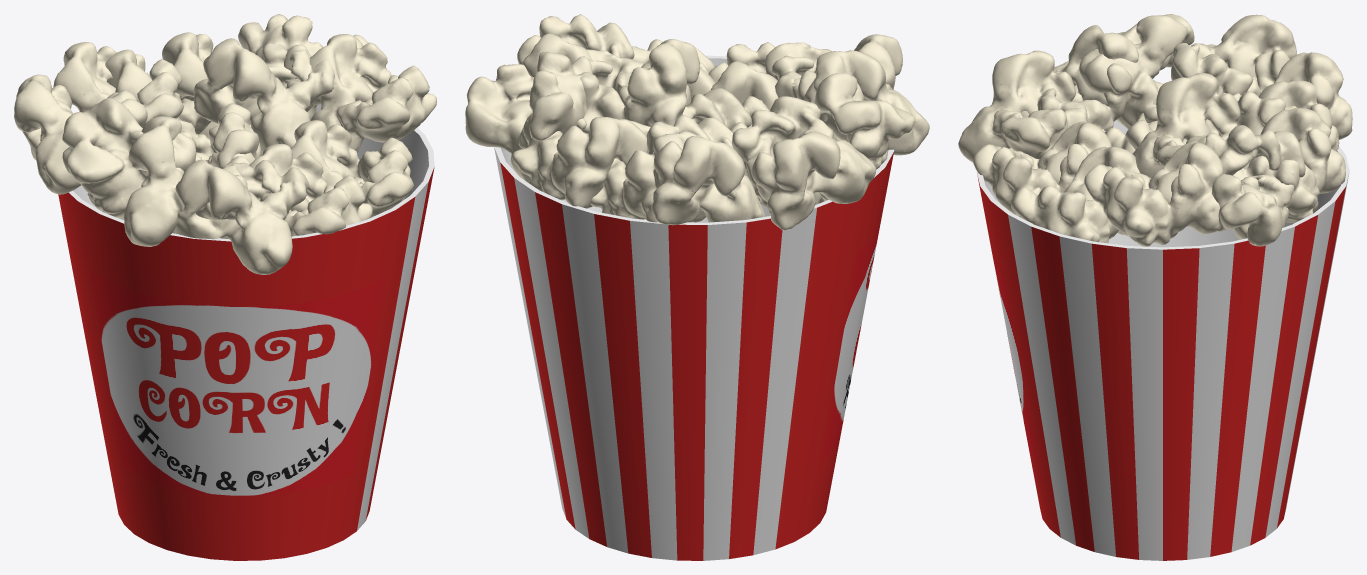
File: popcorn.fbx
The picture shows the model from 3 angles, left to right: view 1: azimuth 30°, elevation 25°; view 2: azimuth 150°, elevation 25°; view 3: azimuth 270°, elevation 25°; orthographic projection. The views are drawn at different scales.
Parts seen in each view (by area): view 1: Cylinder, poped_import.011; view 2: Cylinder, poped_import.011; view 3: Cylinder, poped_import.011.
Boxes of the visible parts, x1,y1,x2,y2 form: Cylinder: [58, 104, 434, 560]; poped_import.011: [14, 14, 436, 274]; Cylinder: [494, 55, 894, 560]; poped_import.011: [465, 14, 929, 230]; Cylinder: [976, 120, 1349, 560]; poped_import.011: [958, 14, 1352, 246].
Size of the model in its own units: 0.0572 by 0.0671 by 0.0547.
